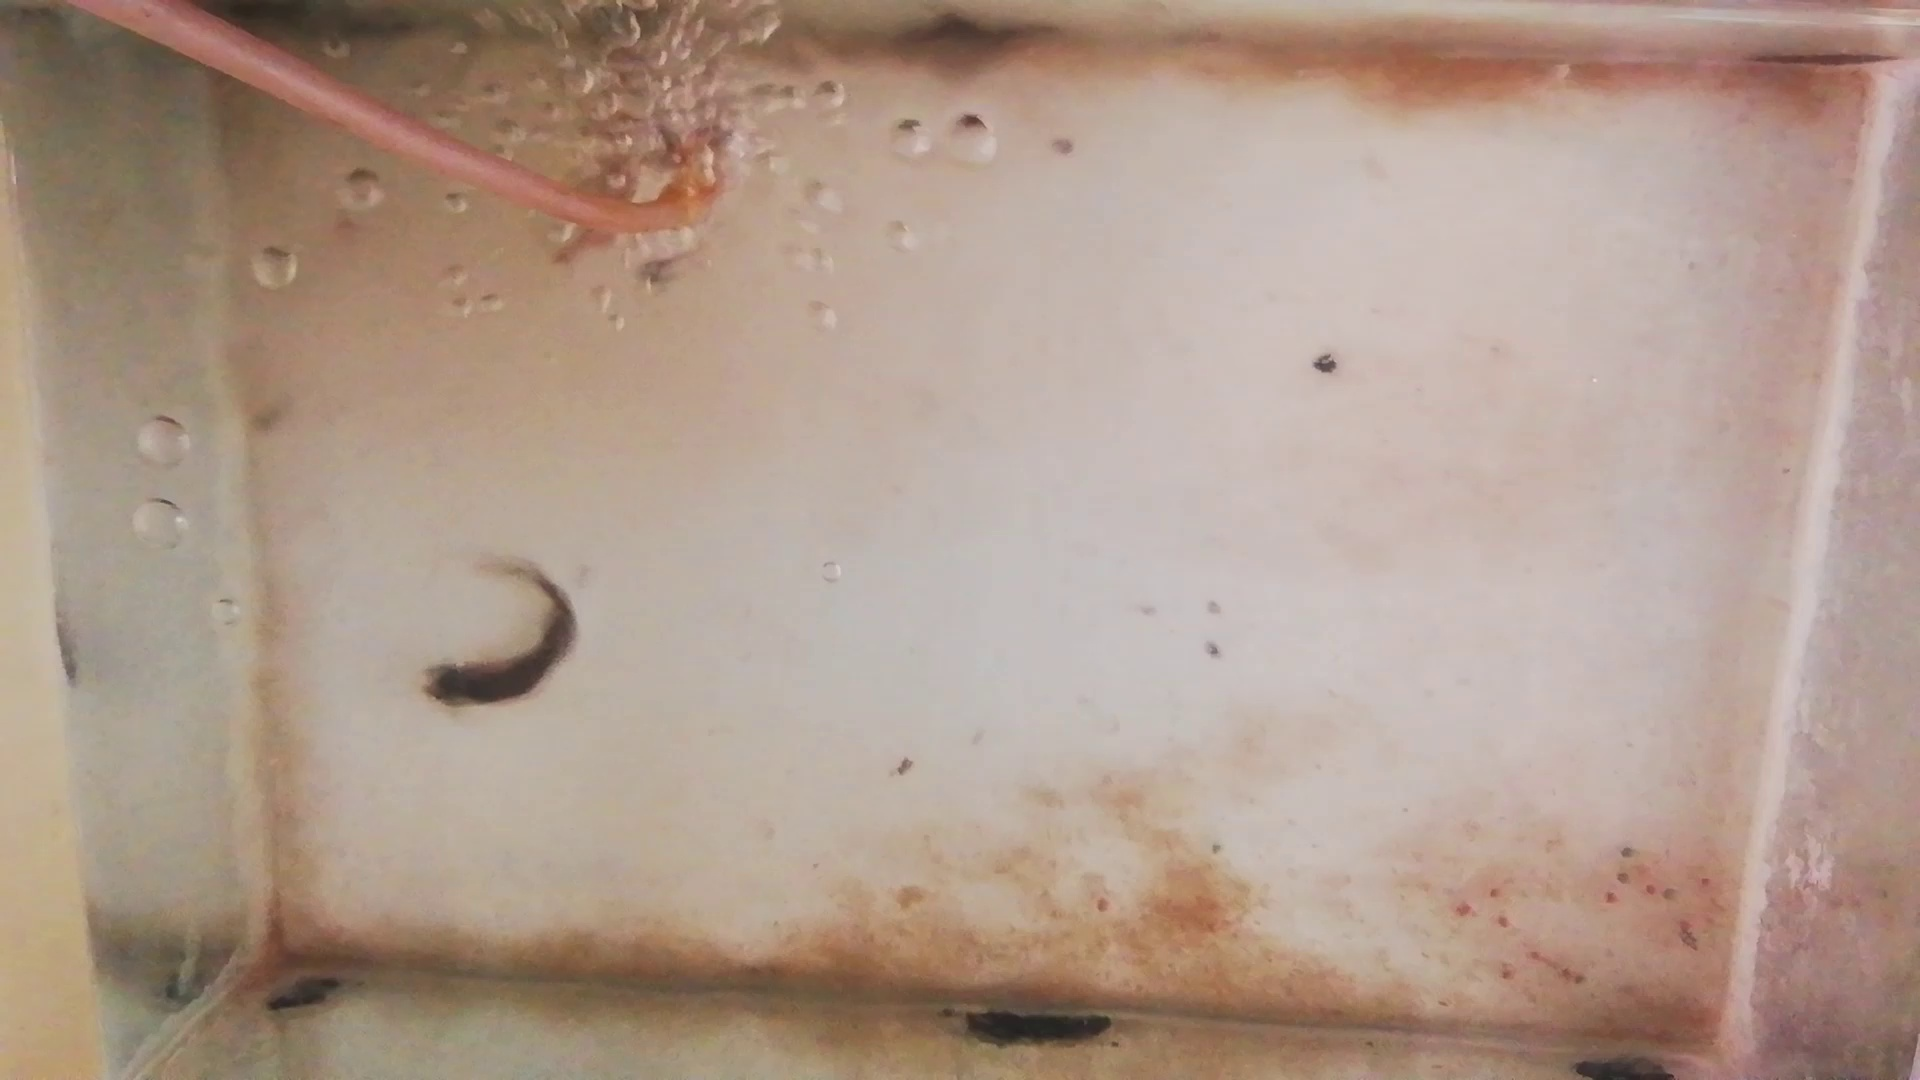fish: (426, 578, 582, 709), (558, 76, 640, 265)
